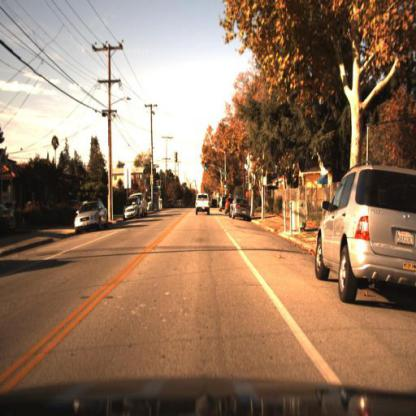car: (316, 165, 416, 309), (72, 195, 115, 239), (228, 194, 253, 222), (122, 198, 147, 220), (195, 192, 214, 219)
